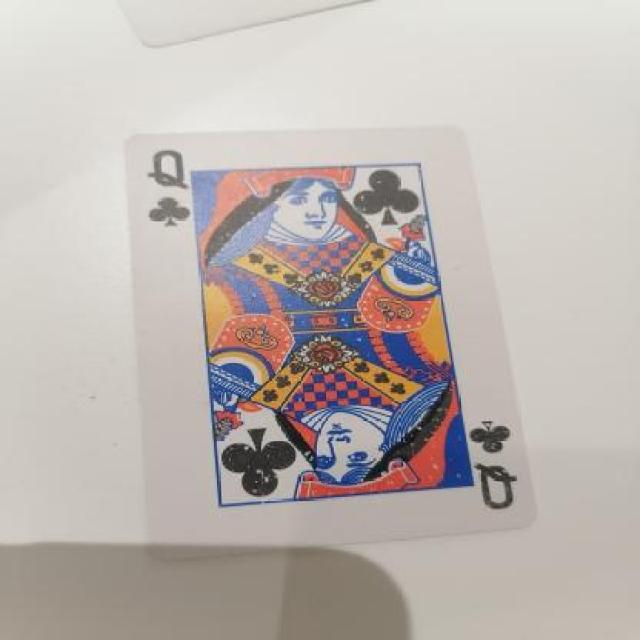QC: (455, 406, 528, 519), (132, 145, 208, 241)
